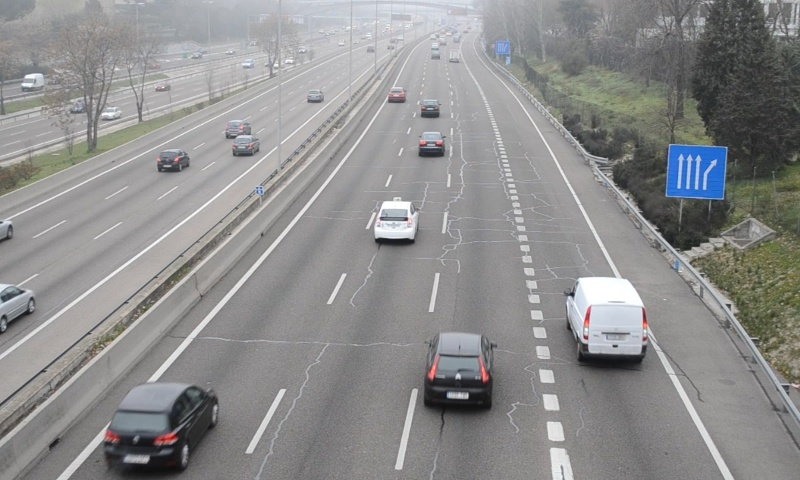car: (102, 382, 220, 468), (426, 332, 491, 405), (374, 200, 417, 240), (418, 130, 444, 157), (420, 98, 440, 118), (386, 86, 406, 103)
van: (568, 276, 648, 363)
